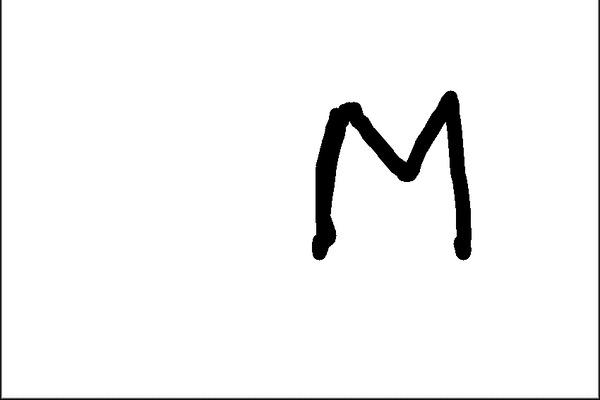M: (309, 85, 477, 261)
